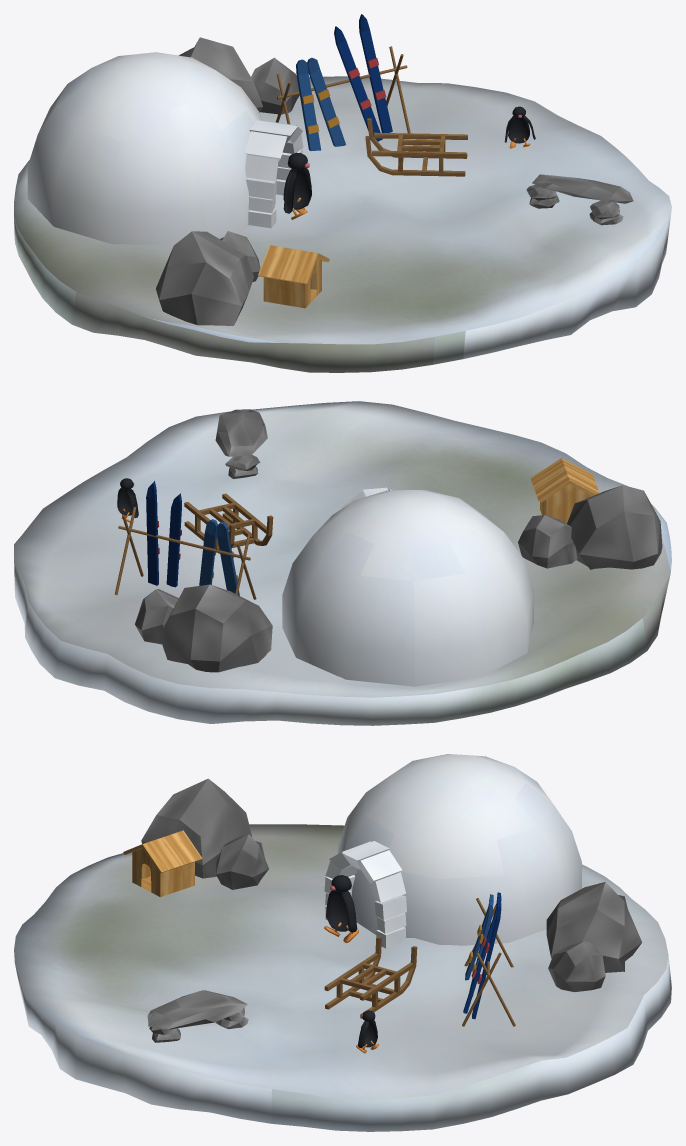
File: IglooDogHouse003.fbx
3 views of the same model, one above another, from view 1: azimuth 30°, elevation 25°; view 2: azimuth 150°, elevation 25°; view 3: azimuth 270°, elevation 25° (orthographic).
Parts seen in each view (by area): view 1: ground, Igloo, stone.002, Cube, sled, stone, stone.001, stone.008, ski board.005, ski board.002, ski board, ski board.001 (+7 smaller); view 2: ground, Igloo, stone, stone.002, Cube, stone.003, sled, stone.008, stone.001, ski board.005, ski board.002, ski board.001 (+1 smaller); view 3: ground, Igloo, stone, stone.002, Cube, sled, stone.008, stone.001, stone.003, body, Cube.010, Cube.009 (+2 smaller).
Part boxes in pixels (box(x1,y1,x2,y2)): ground: box(14, 76, 671, 372); Igloo: box(27, 52, 275, 245); stone.002: box(156, 231, 253, 325); Cube: box(258, 245, 329, 308); sled: box(365, 118, 467, 176); stone: box(179, 37, 263, 112); stone.001: box(251, 57, 299, 114); stone.008: box(532, 174, 633, 203); ski board.005: box(359, 14, 392, 132); ski board.002: box(334, 26, 382, 141); ski board: box(307, 57, 345, 146); ski board.001: box(296, 59, 321, 150); ground: box(14, 401, 671, 725); Igloo: box(282, 490, 533, 686); stone: box(159, 584, 272, 672); stone.002: box(567, 485, 662, 569); Cube: box(530, 458, 599, 523); stone.003: box(518, 515, 577, 568); sled: box(184, 493, 273, 553); stone.008: box(215, 409, 267, 456); stone.001: box(135, 589, 178, 644); ski board.005: box(146, 481, 158, 585); ski board.002: box(166, 493, 181, 587); ski board.001: box(216, 521, 239, 595); ground: box(14, 824, 671, 1131); Igloo: box(337, 754, 581, 945); stone: box(546, 882, 641, 972); stone.002: box(141, 778, 252, 878); Cube: box(123, 830, 202, 896); sled: box(324, 936, 417, 1018); stone.008: box(147, 990, 247, 1029); stone.001: box(548, 941, 605, 992); stone.003: box(216, 834, 268, 889); body: box(326, 875, 351, 931); Cube.010: box(360, 850, 402, 883); Cube.009: box(371, 872, 405, 902).
Bounding box in the file's own units: 879 × 268 × 894.
